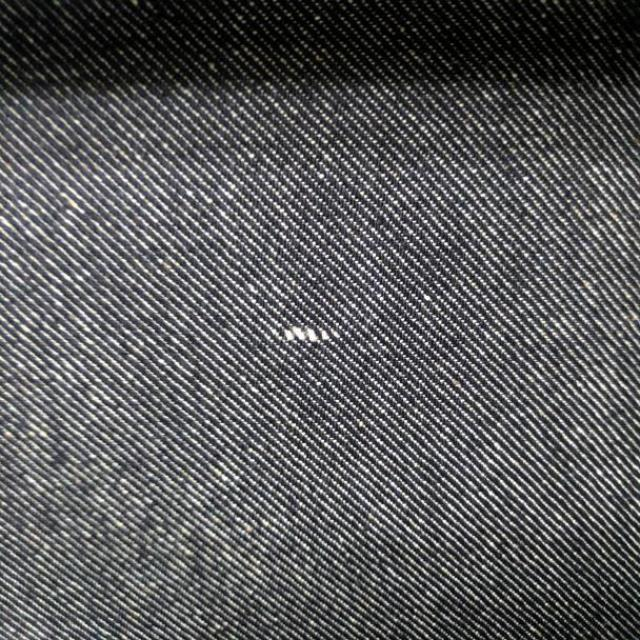Knot: (279, 326, 341, 344)
